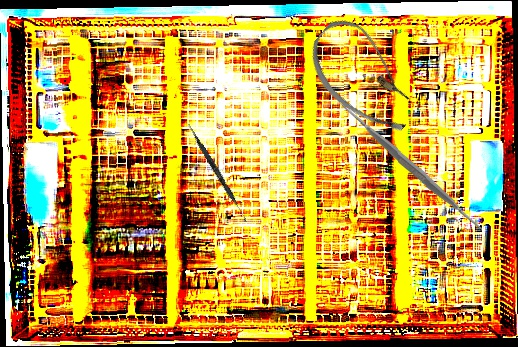Cannula: (294, 9, 437, 145)
Spatula Surgical: (337, 93, 487, 241), (185, 123, 250, 223)
